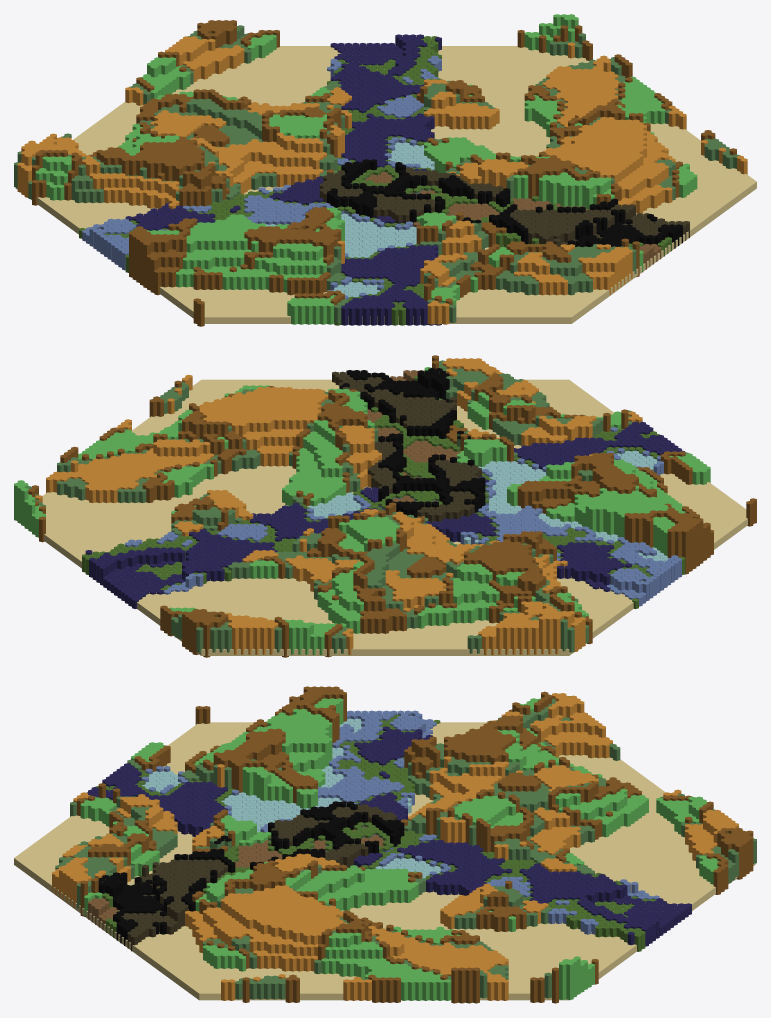
The model's file is 0038_tile_1002021.fbx.
The picture shows the model from 3 angles, top to bottom: view 1: azimuth 30°, elevation 25°; view 2: azimuth 150°, elevation 25°; view 3: azimuth 270°, elevation 25°; orthographic projection.
Visible parts, largest first — view 1: Plane; view 2: Plane; view 3: Plane.
Boxes of the visible parts, <box> form: Plane: <box>14,14,756,326</box>; Plane: <box>14,355,756,657</box>; Plane: <box>14,686,756,1003</box>.
Size of the model in its own units: 1008 by 73.35 by 1152.
